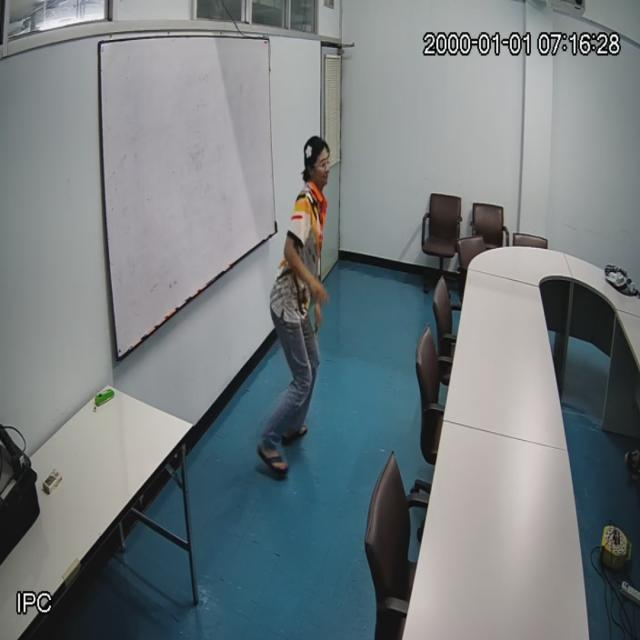normal: (262, 137, 330, 467)
